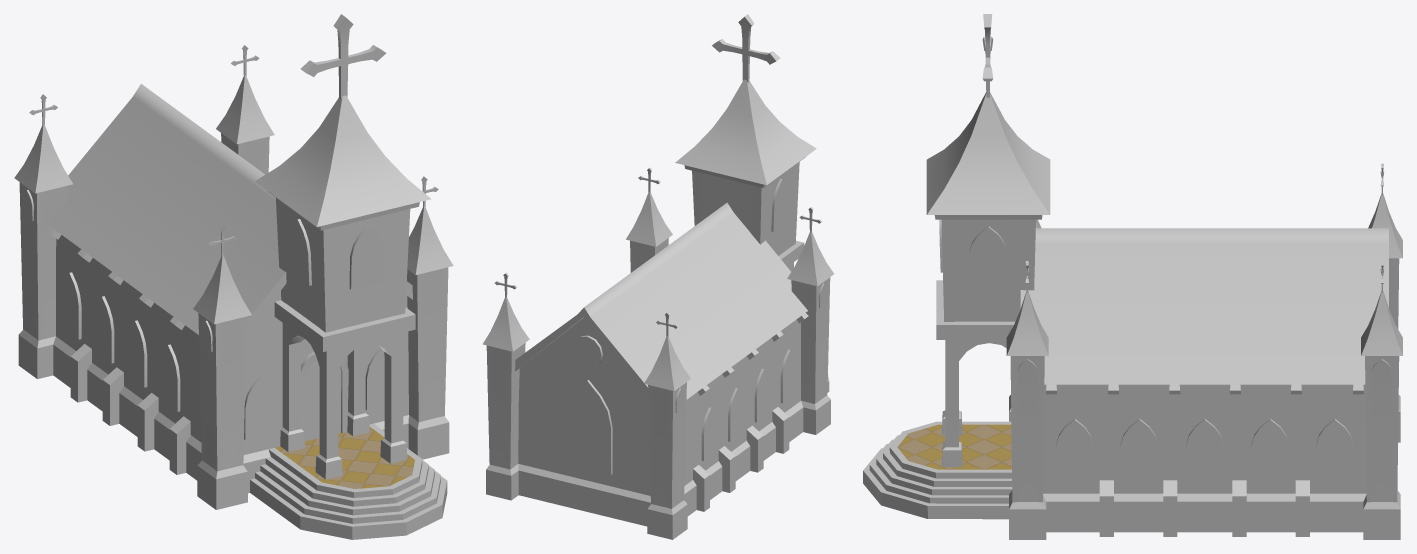
Rendered from Church03_d02.FBX.
3 views of the same model, side by side, from view 1: azimuth 30°, elevation 25°; view 2: azimuth 150°, elevation 25°; view 3: azimuth 270°, elevation 25° (orthographic). The views are drawn at different scales.
Parts seen in each view (by area): view 1: Church03_d02; view 2: Church03_d02; view 3: Church03_d02.
Boxes of the visible parts, box(x1,y1,x2,y2) form: Church03_d02: box(14, 14, 453, 539); Church03_d02: box(483, 14, 834, 539); Church03_d02: box(863, 14, 1402, 539).
Bounding box in the file's own units: 778 × 1470 × 1532.
